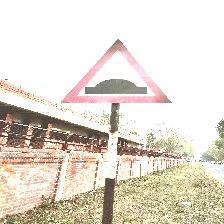Speed-breaker: (58, 38, 174, 109)
